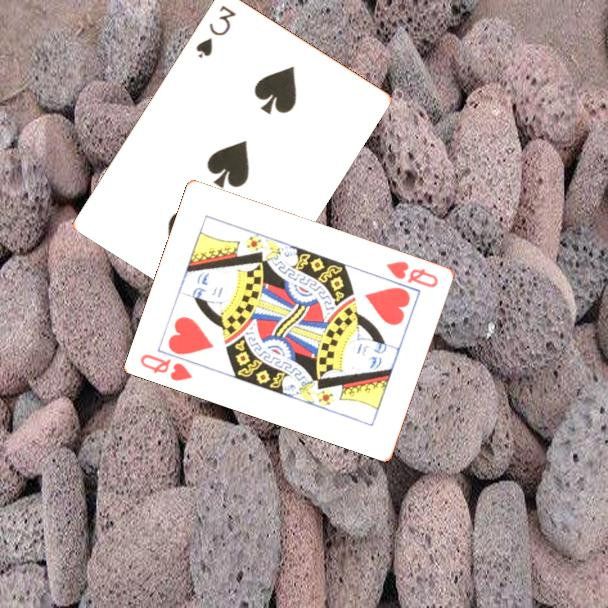h12: (137, 350, 196, 384), (383, 257, 442, 290)
s03: (192, 1, 239, 60)
